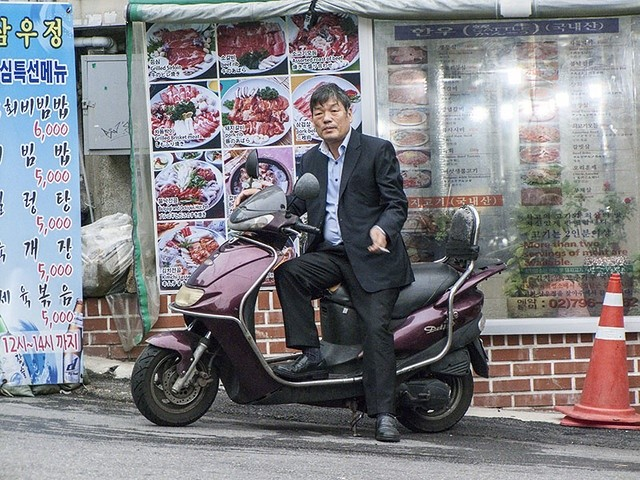face_no_mask: (309, 83, 355, 143)
